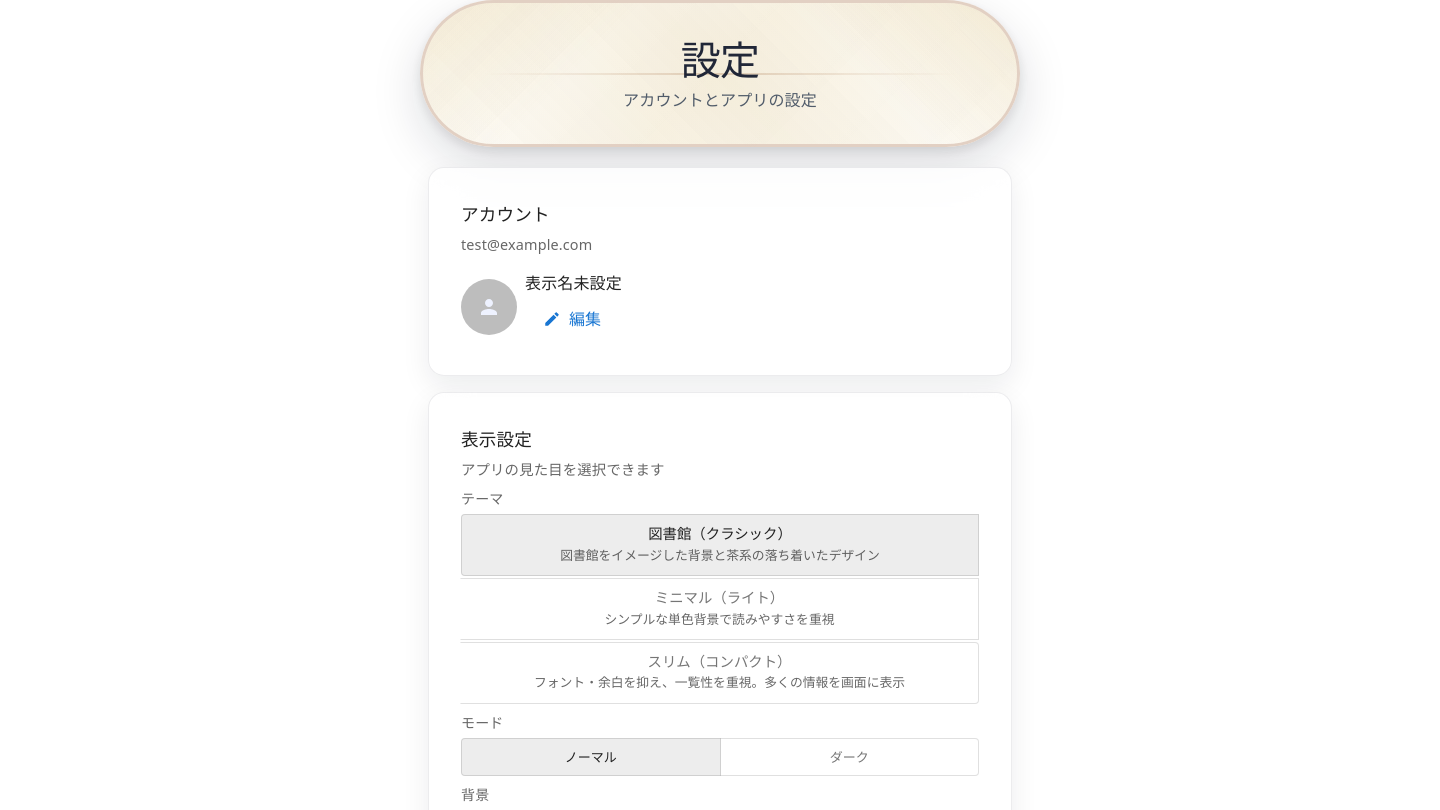
Test case: Settings › 編集ボタンクリックでプロフィール編集ダイアログが開く
The width and height of the screenshot is (1440, 810).
What coordinates should you click on to do the following:
click the button with test id "profile-edit-button"
I would click on:
 (573, 319)
Its box is x1=525 y1=295 x2=621 y2=343.
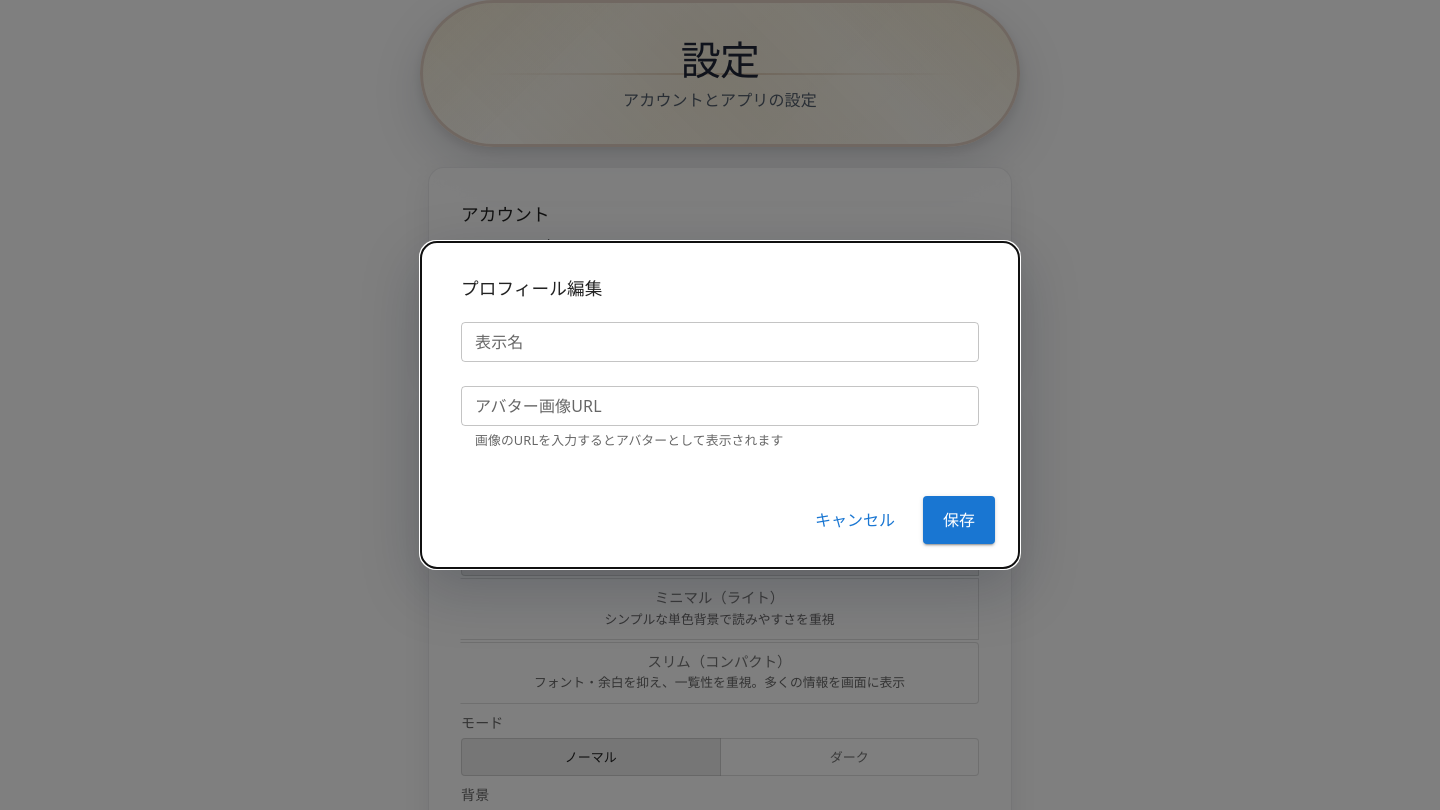
expect the dialog "プロフィール編集 表示名 アバター画像URL 画像のURLを入力するとアバターとして表示されます キャンセル 保存" is shown: met, box x1=420 y1=241 x2=1020 y2=569
expect the field with test id "profile-display-name-input" is shown: met, box x1=461 y1=322 x2=979 y2=362
expect the field with test id "profile-avatar-url-input" is shown: met, box x1=461 y1=386 x2=979 y2=426
